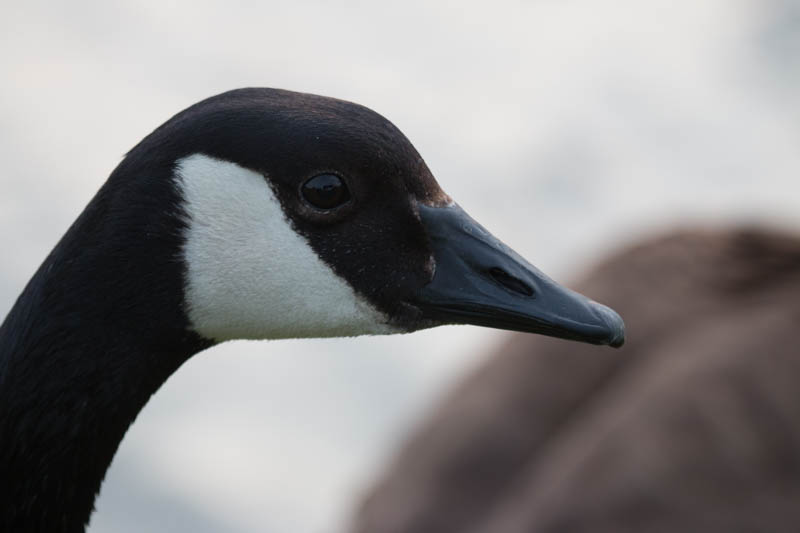goose-head: (106, 87, 627, 347)
